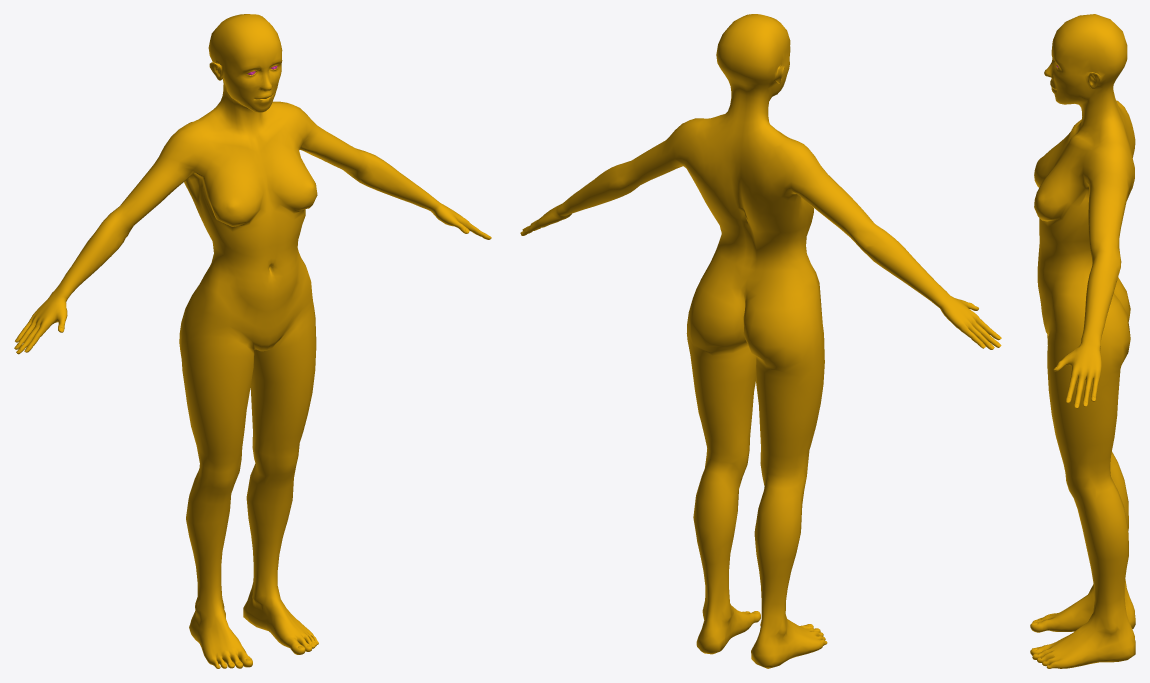
File: earth-giant-model.fbx
3 views of the same model, side by side, from view 1: azimuth 30°, elevation 25°; view 2: azimuth 150°, elevation 25°; view 3: azimuth 270°, elevation 25° (orthographic).
Parts seen in each view (by area): view 1: Body_M_GeoRndr; view 2: Body_M_GeoRndr; view 3: Body_M_GeoRndr.
Part boxes in pixels (x1=…): Body_M_GeoRndr: x1=14, y1=14, x2=491, y2=668; Body_M_GeoRndr: x1=520, y1=14, x2=1001, y2=668; Body_M_GeoRndr: x1=1030, y1=14, x2=1135, y2=668.
Bounding box in the file's own units: 1316 × 1657 × 253.
